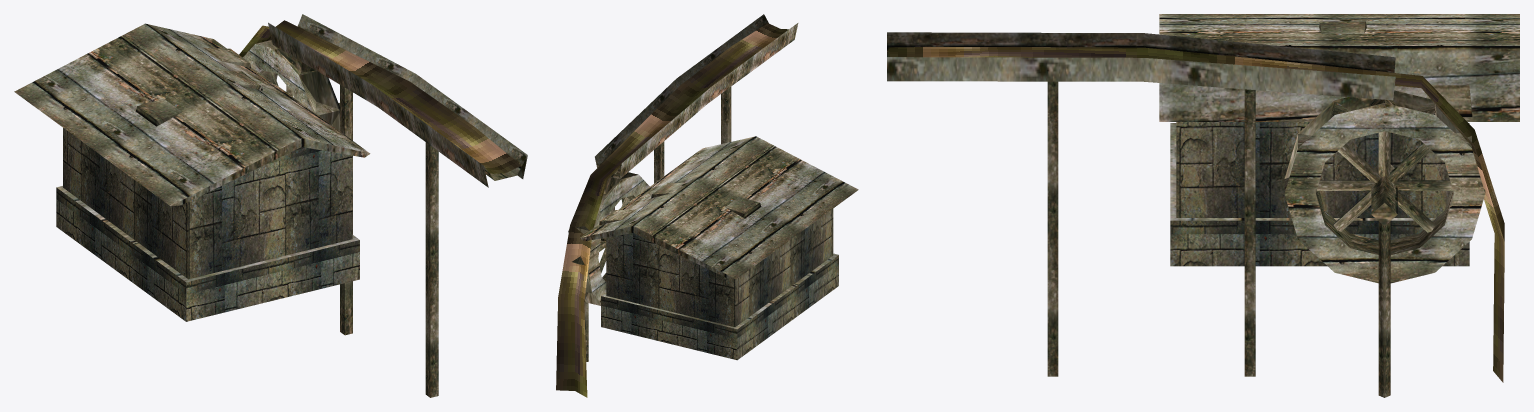
Rendered from House05.obj.
3 views of the same model, side by side, from view 1: azimuth 30°, elevation 25°; view 2: azimuth 150°, elevation 25°; view 3: azimuth 270°, elevation 25° (orthographic). The views are drawn at different scales.
Visible parts, largest first — view 1: Mesh_0, Mesh_1, Mesh_2; view 2: Mesh_0, Mesh_1, Mesh_2; view 3: Mesh_0, Mesh_1, Mesh_2.
Part boxes in pixels (box(x1,y1,x2,y2)): Mesh_0: box(14, 14, 527, 397); Mesh_1: box(56, 128, 359, 321); Mesh_2: box(239, 20, 520, 173); Mesh_0: box(568, 14, 858, 361); Mesh_1: box(601, 209, 838, 360); Mesh_2: box(556, 23, 788, 397); Mesh_0: box(887, 14, 1519, 397); Mesh_1: box(1170, 122, 1469, 266); Mesh_2: box(888, 47, 1504, 382).
Size of the model in its own units: 4.94 by 5.07 by 8.77.
3 materials, 3 textured.
